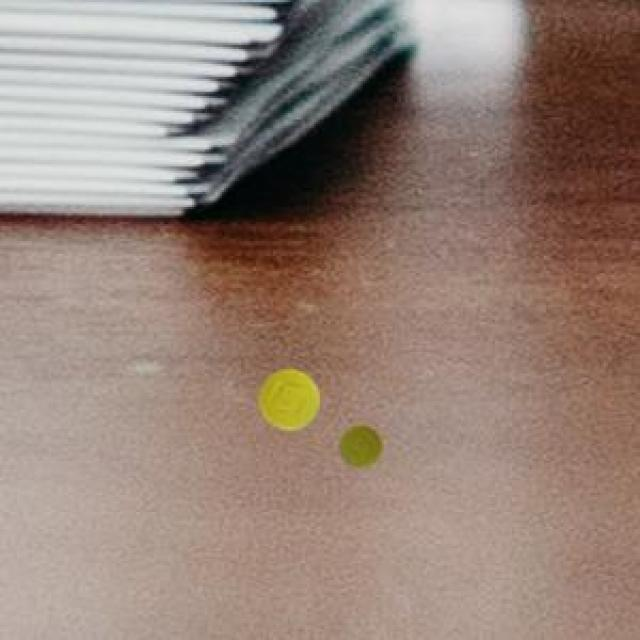Decolgen: (252, 355, 326, 443), (336, 414, 384, 486)
